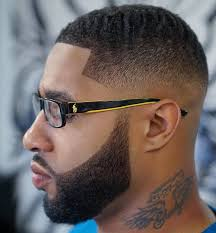black_male: (21, 26, 190, 224)
